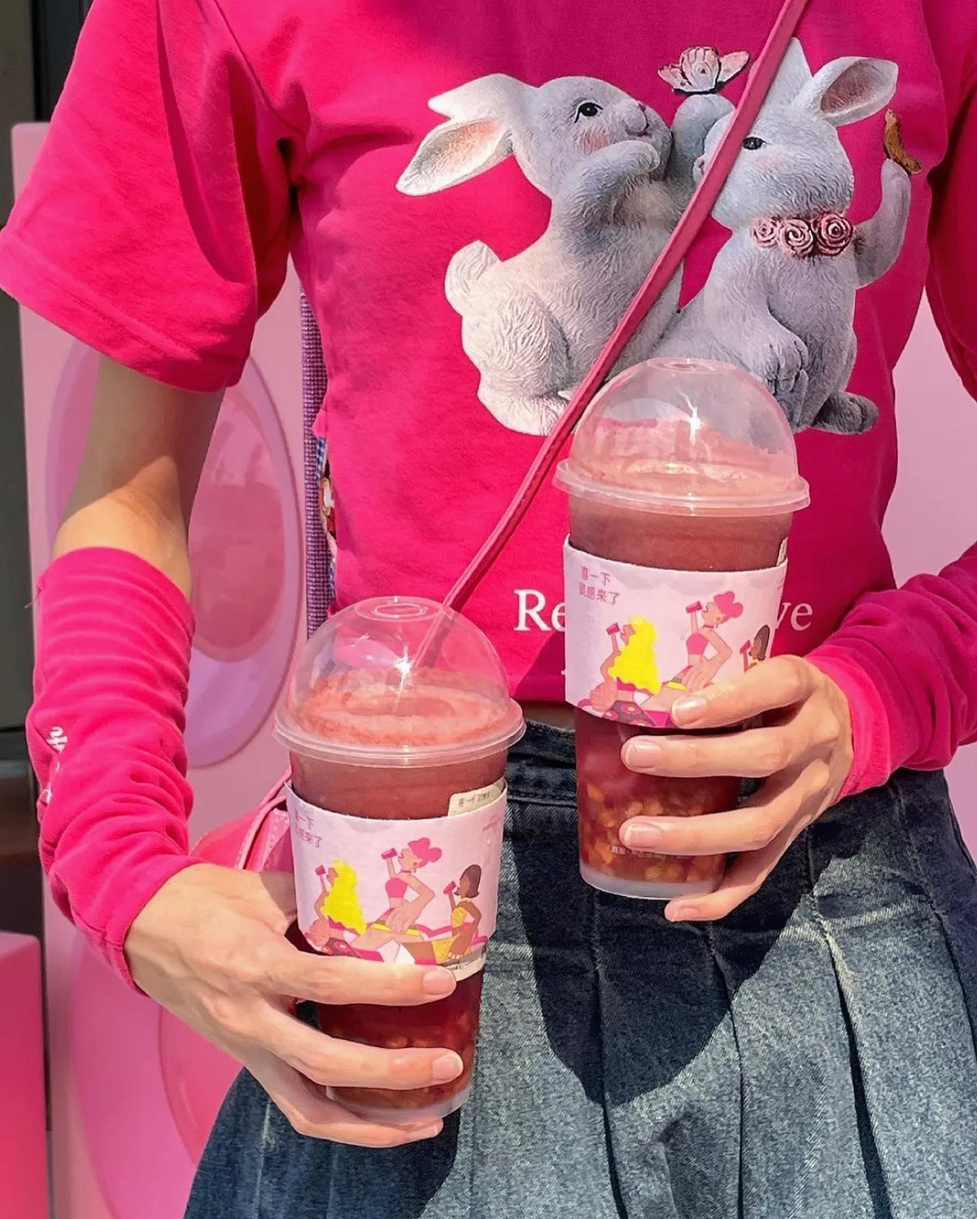cup-disposable: (548, 347, 819, 907), (259, 584, 530, 1138)
